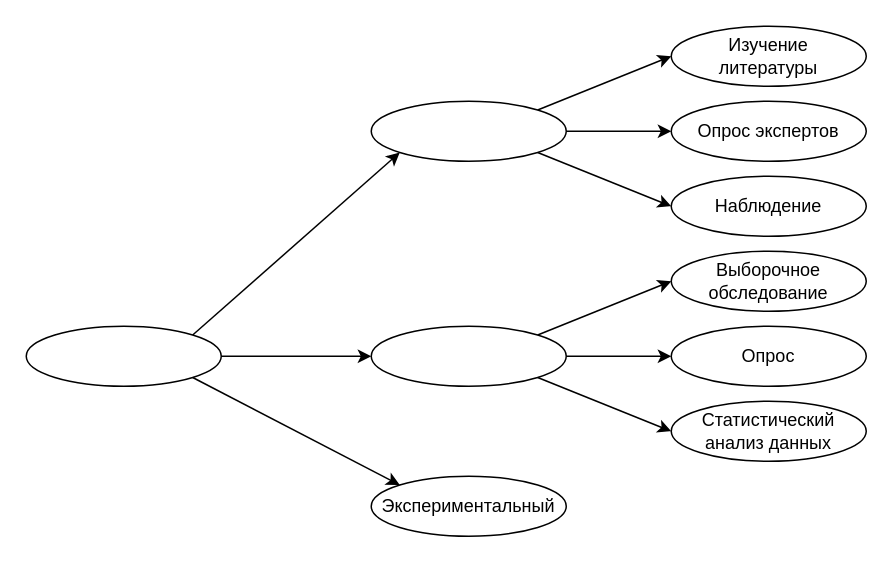
Image size: 893x563. Some labels were removed from this diagram. The centre of each missing label's shape, as x and y in pixels:
"Описательный" goes at (x=468, y=355).
"План исследования" goes at (x=123, y=355).
"Поисковый" goes at (x=468, y=130).
